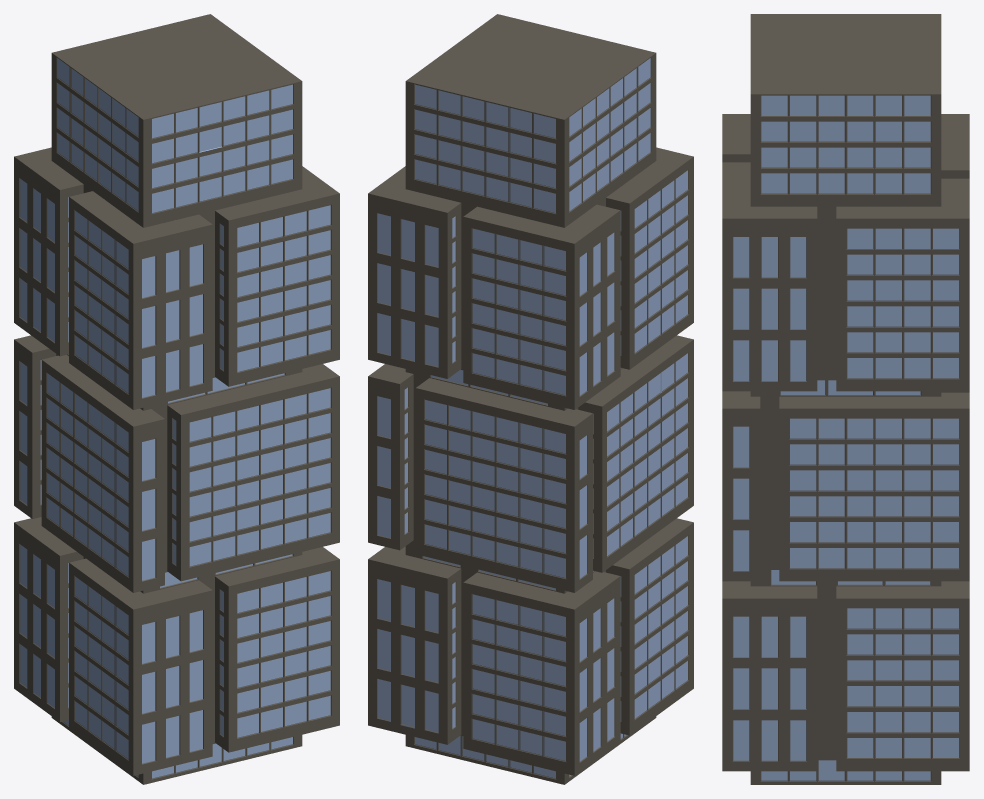
Rendered from Imeuble4.fbx.
3 renders of one model, left to right at view 1: azimuth 30°, elevation 25°; view 2: azimuth 150°, elevation 25°; view 3: azimuth 270°, elevation 25°, orthographic. The views are drawn at different scales.
Parts seen in each view (by area): view 1: group57; view 2: group57; view 3: group57.
Boxes of the visible parts, left/top/right/bottom form: group57: left=14, top=14, right=339, bottom=784; group57: left=368, top=14, right=693, bottom=784; group57: left=722, top=14, right=969, bottom=784.
Size of the model in its own units: 2.6 by 8 by 2.6.
